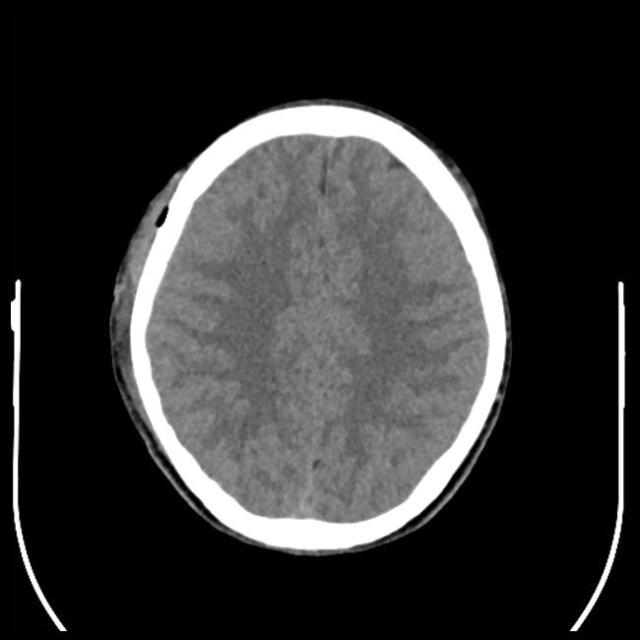lesion: (105, 97, 515, 558)
